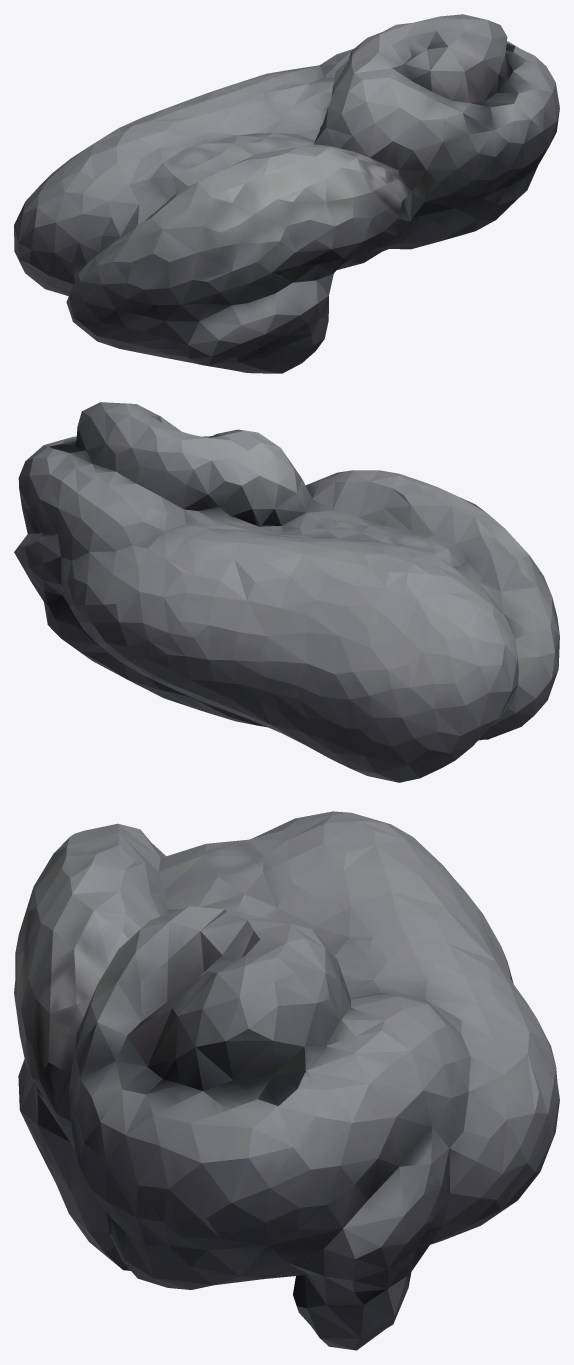
The model's file is hairstyle_039.glb.
3 renders of one model, top to bottom at view 1: azimuth 30°, elevation 25°; view 2: azimuth 150°, elevation 25°; view 3: azimuth 270°, elevation 25°, orthographic. The views are drawn at different scales.
Parts seen in each view (by area): view 1: geometry_0_039; view 2: geometry_0_039; view 3: geometry_0_039.
Boxes of the visible parts, <box> form: geometry_0_039: <box>14,14,559,373</box>; geometry_0_039: <box>14,402,559,782</box>; geometry_0_039: <box>14,811,559,1350</box>.
Size of the model in its own units: 1.08 by 0.5784 by 0.5949.
1 material, 1 textured.
